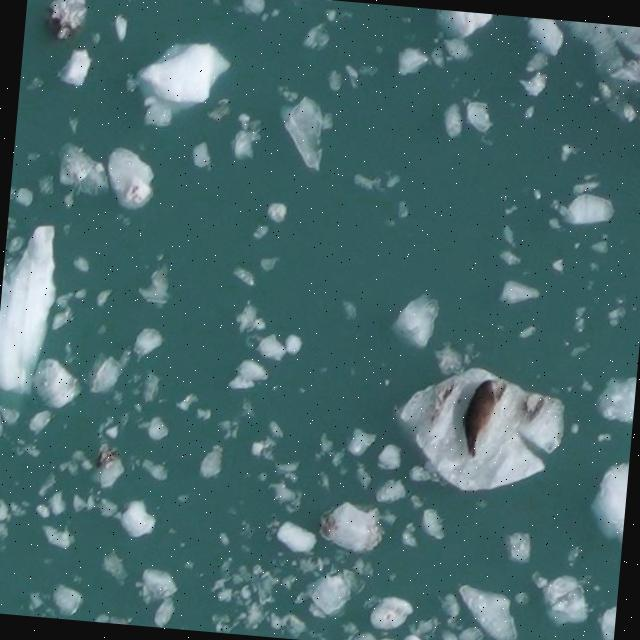seal: (447, 371, 508, 461)
